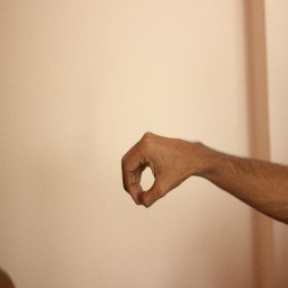O: (119, 126, 198, 214)
